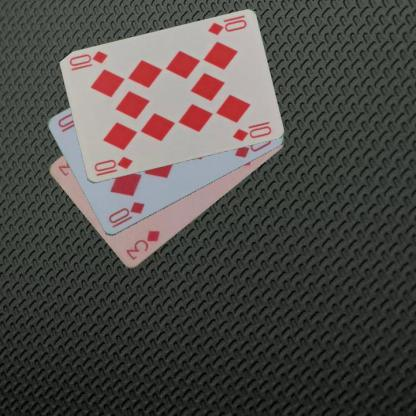10d: (106, 200, 146, 230), (204, 13, 248, 37), (91, 154, 134, 173)
3d: (123, 228, 161, 262)
